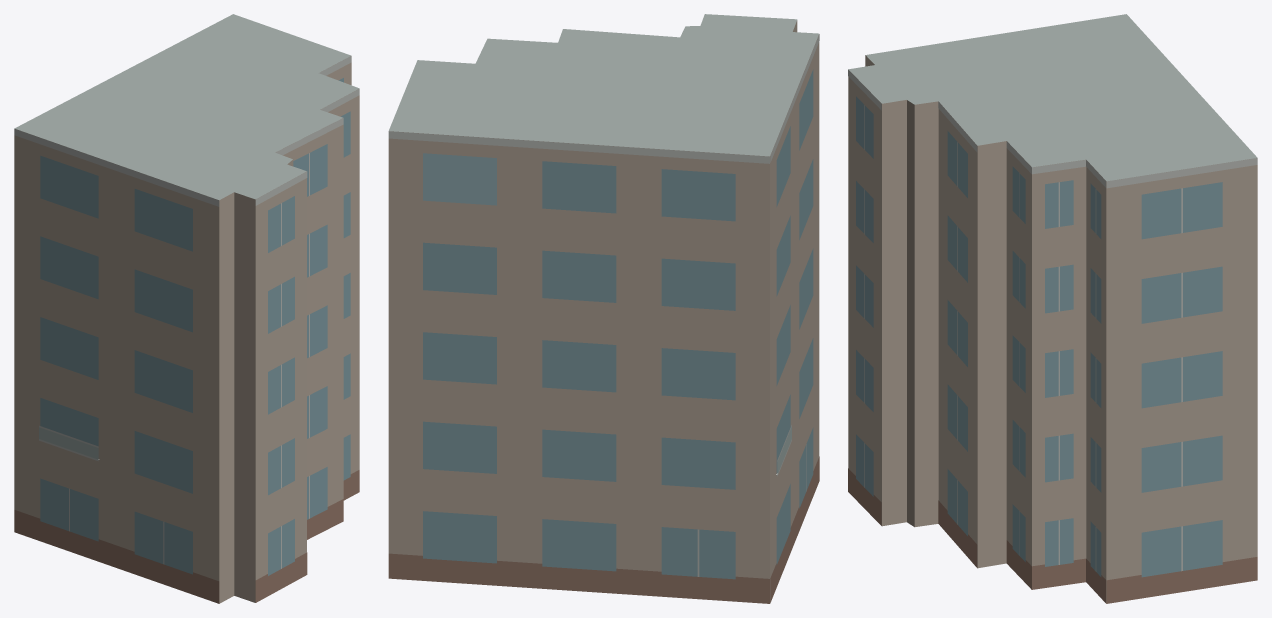
Rendered from survey-upis-32546536.glb.
3 renders of one model, left to right at view 1: azimuth 30°, elevation 25°; view 2: azimuth 150°, elevation 25°; view 3: azimuth 270°, elevation 25°, orthographic. The views are drawn at different scales.
Parts seen in each view (by area): view 1: survey-upis-32546536.tmp; view 2: survey-upis-32546536.tmp; view 3: survey-upis-32546536.tmp.
Part boxes in pixels (x1=…): survey-upis-32546536.tmp: x1=14, y1=14, x2=359, y2=603; survey-upis-32546536.tmp: x1=388, y1=14, x2=819, y2=603; survey-upis-32546536.tmp: x1=848, y1=14, x2=1257, y2=603.
Bounding box in the file's own units: 12.5 × 14.7 × 12.92.
